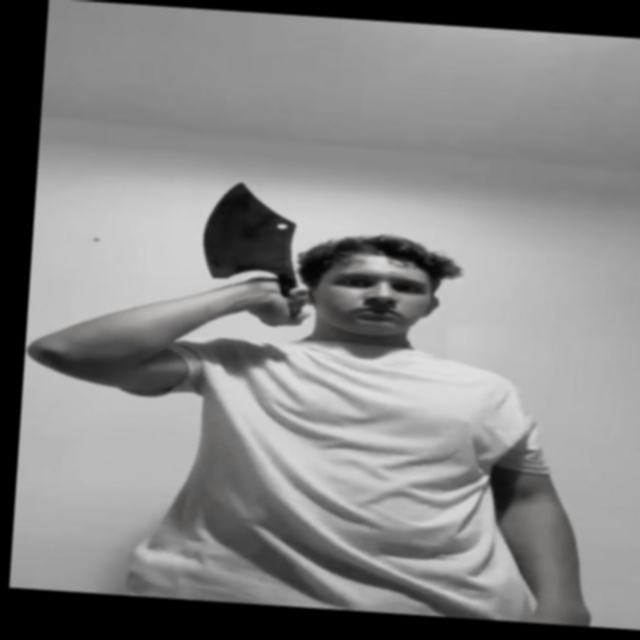Sharp-Object: (200, 180, 297, 285)
